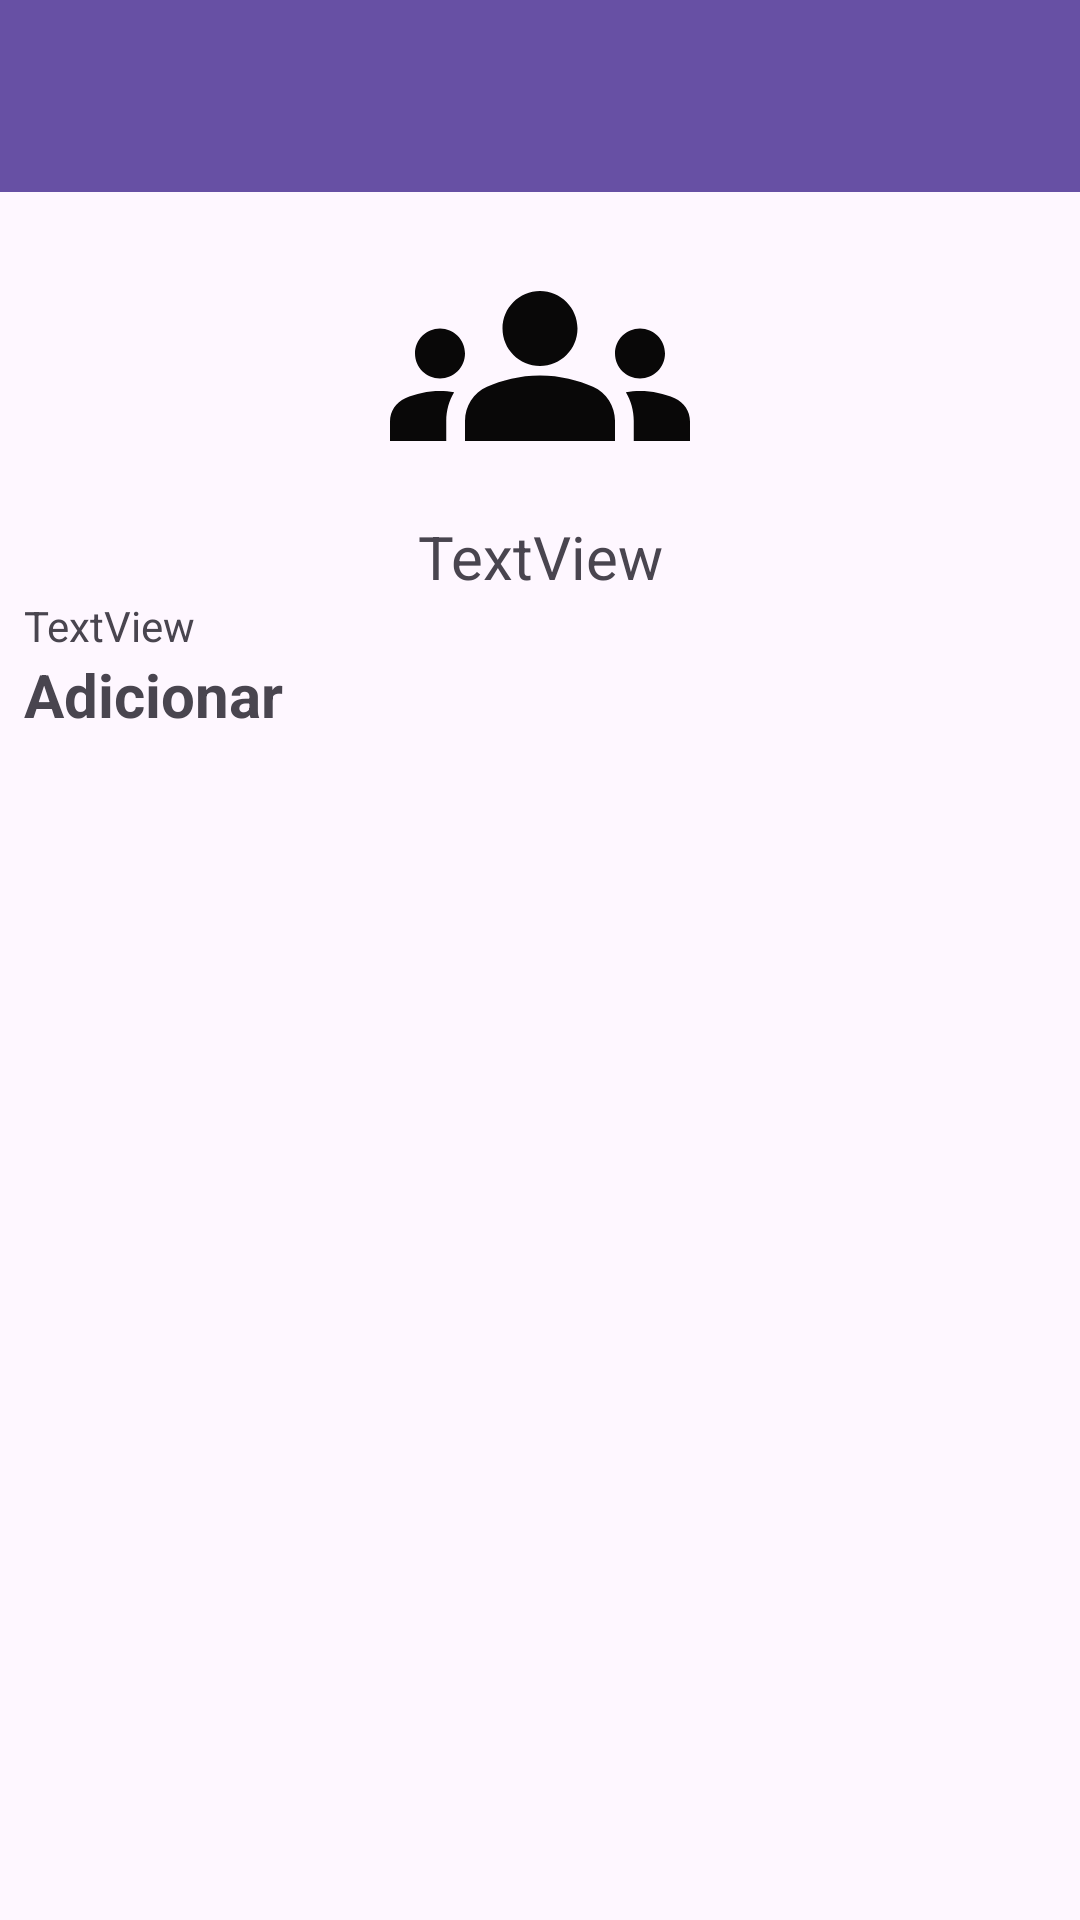

Screen size 1080 × 1920. Icon name, then its center in pixels as (x=x, y=y):
groups: (x=540, y=366)
